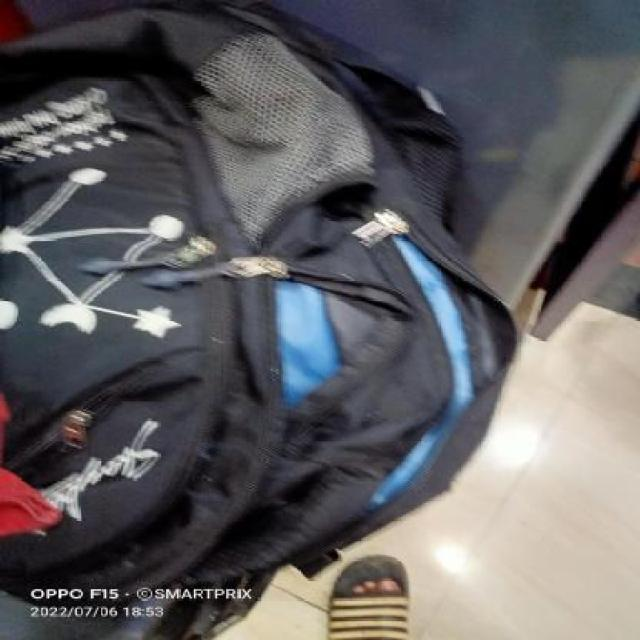backpack: (0, 0, 525, 620)
